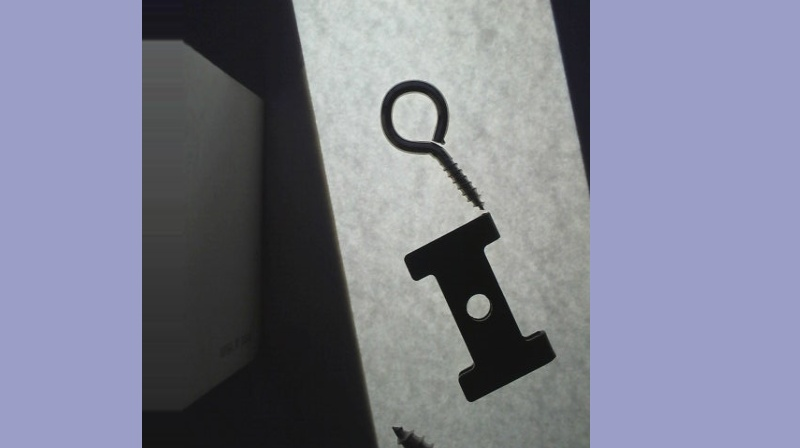O001: (379, 79, 484, 210)
O002: (403, 212, 555, 403)
S001: (390, 422, 535, 447)
